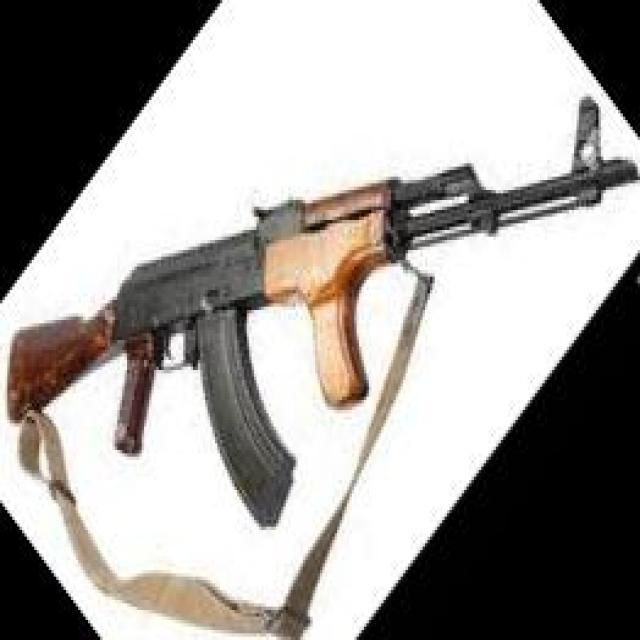weapon: (6, 95, 640, 529)
